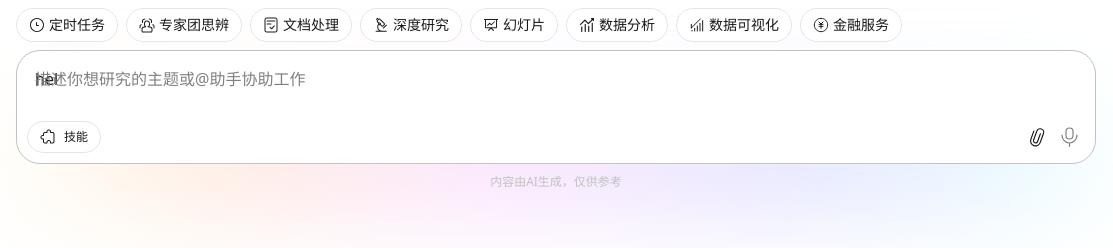
Test case: ChatInput ghost suggestion during composition › hides history ghost suggestion while IME composition is active
Clear the field labelled "hel" at (46, 79), box [35,68,58,90]
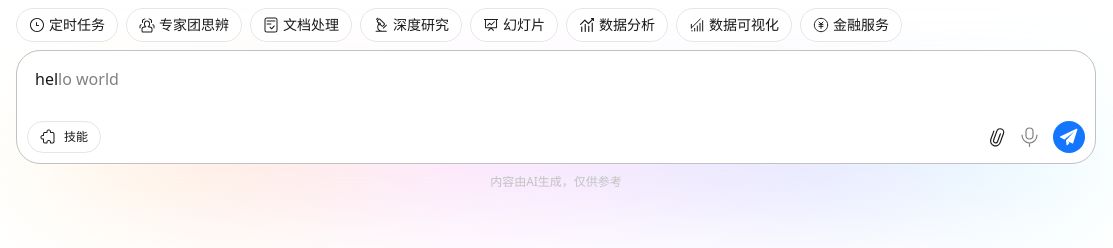
Check: the element with test id "ghost-suggestion" is shown, box [58,68,119,90]
